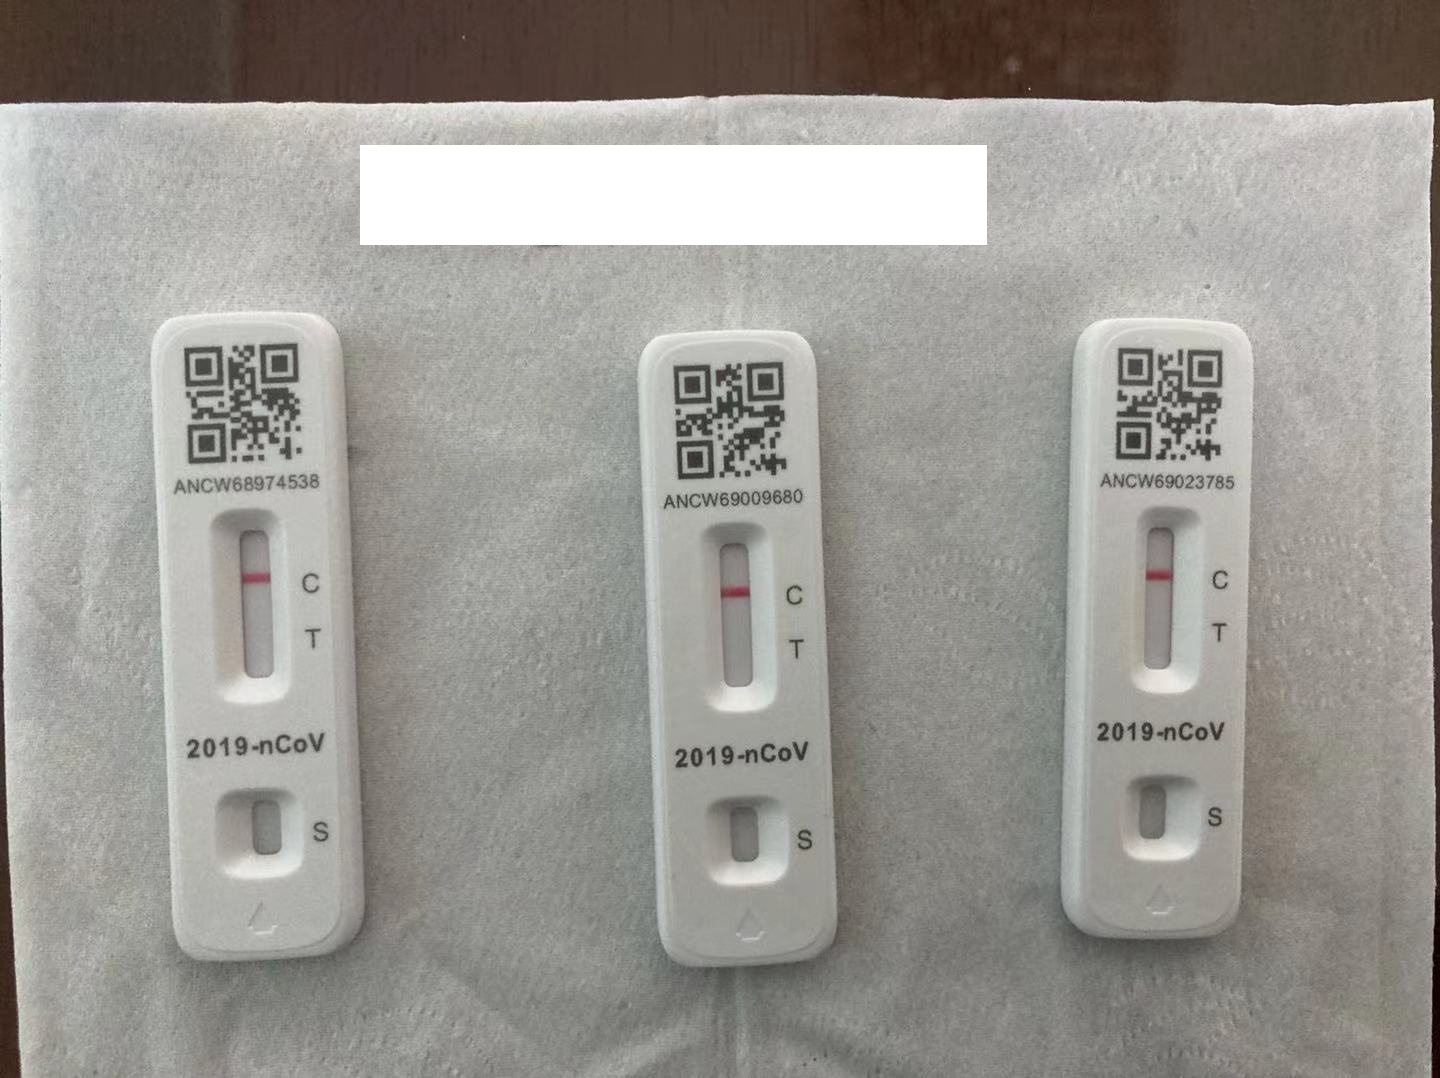negative: (700, 517, 774, 711), (214, 510, 289, 696), (1128, 507, 1200, 684)
